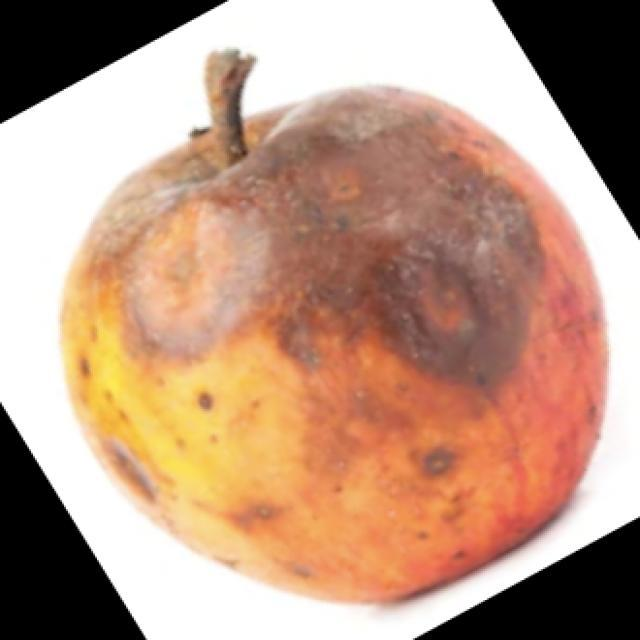Rotten: (45, 90, 605, 598)
